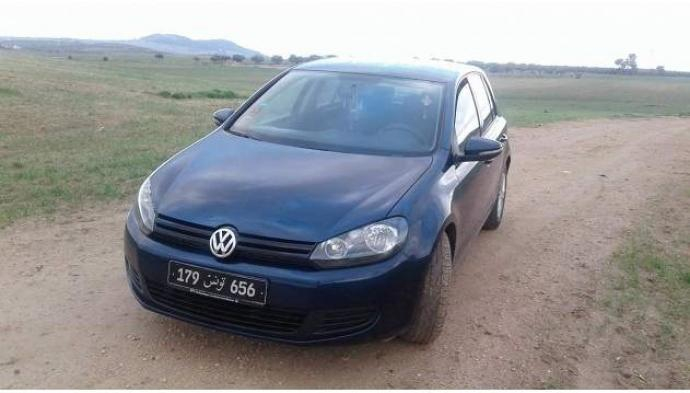LP: (167, 259, 269, 306)
